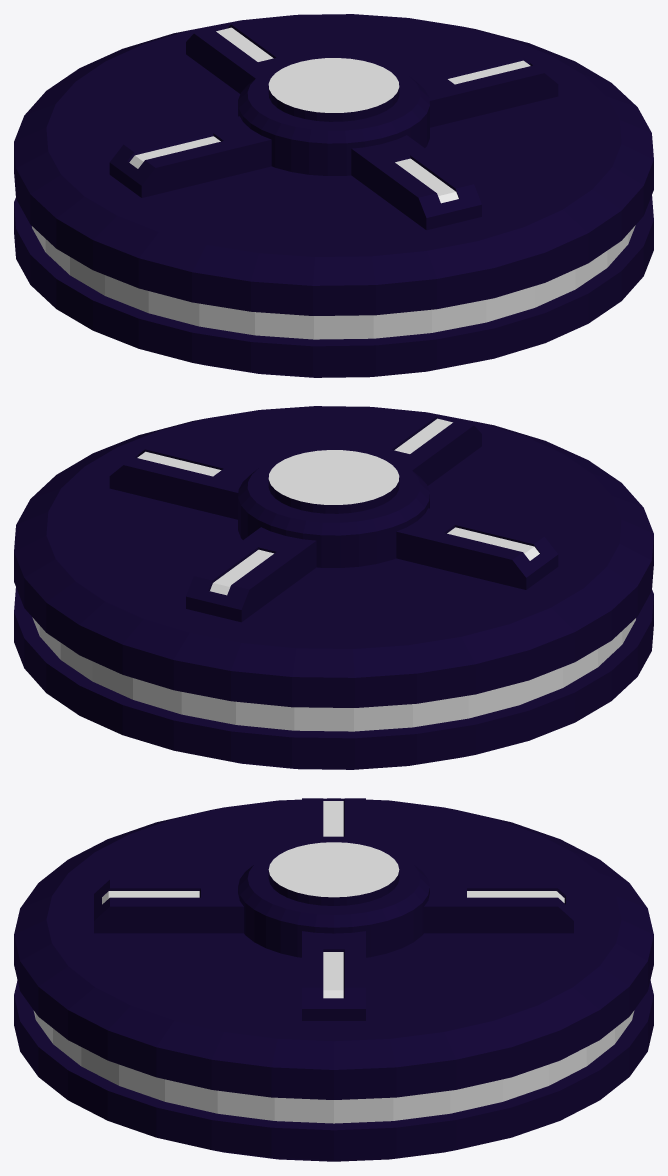
File: FutureMine.fbx
The picture shows the model from 3 angles, top to bottom: view 1: azimuth 30°, elevation 25°; view 2: azimuth 150°, elevation 25°; view 3: azimuth 270°, elevation 25°; orthographic projection.
Parts seen in each view (by area): view 1: FutureMine01; view 2: FutureMine01; view 3: FutureMine01.
Boxes of the visible parts, bbox=[...] form: FutureMine01: bbox=[14, 14, 653, 377]; FutureMine01: bbox=[14, 406, 653, 769]; FutureMine01: bbox=[14, 798, 653, 1161].
Size of the model in its own units: 200 by 58.78 by 200.
